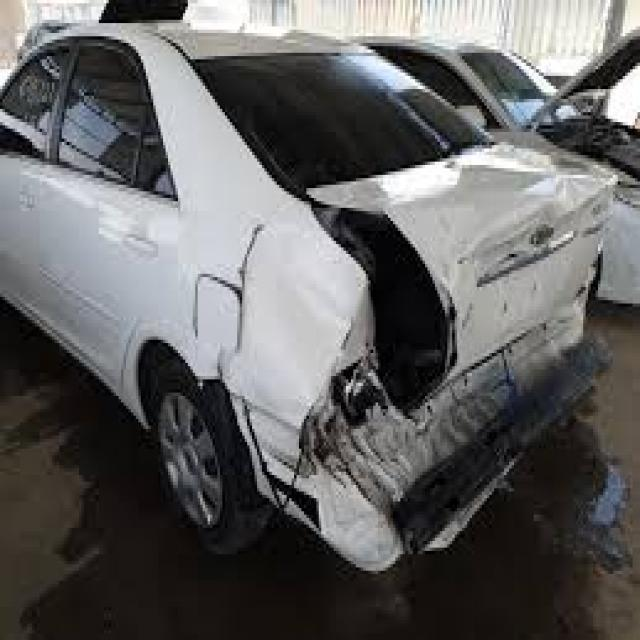damaged-trunk: (314, 150, 614, 358)
